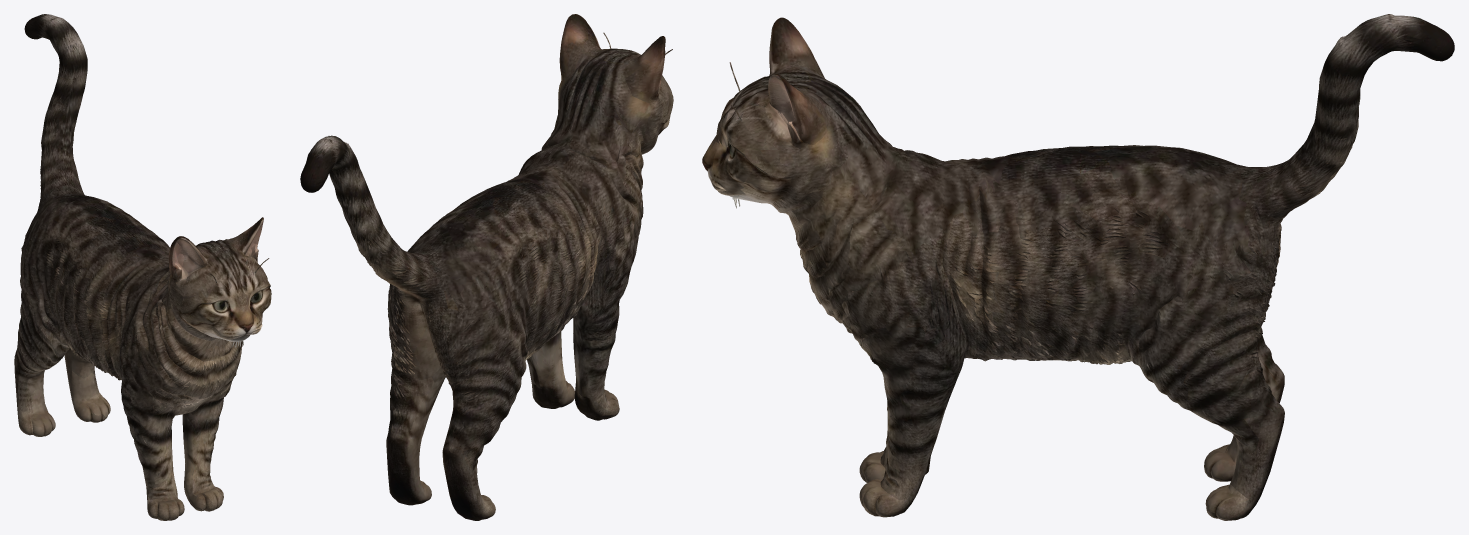
File: rosie.glb
3 renders of one model, left to right at view 1: azimuth 30°, elevation 25°; view 2: azimuth 150°, elevation 25°; view 3: azimuth 270°, elevation 25°, orthographic. The views are drawn at different scales.
Bounding box in the file's own units: 0.4802 × 1.43 × 1.9.
1 material, 1 textured.
